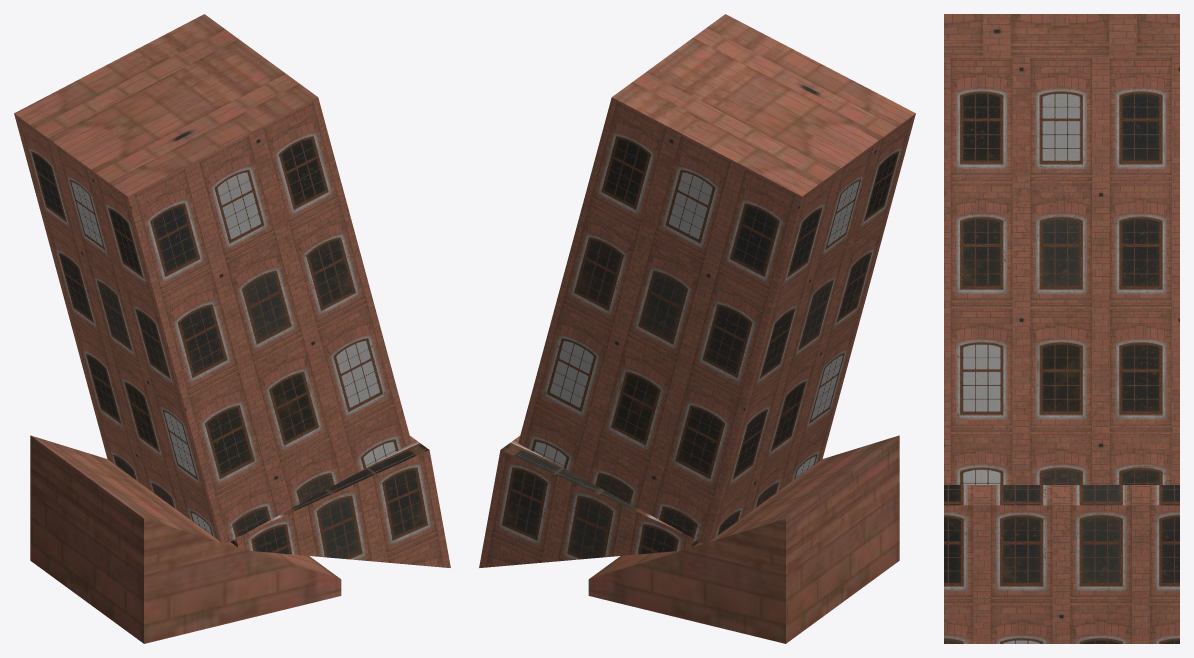
File: Building_Normal_Broken.fbx
3 renders of one model, left to right at view 1: azimuth 30°, elevation 25°; view 2: azimuth 150°, elevation 25°; view 3: azimuth 270°, elevation 25°, orthographic. The views are drawn at different scales.
Visible parts, largest first — view 1: Cube.046, Cube.042, Cube.043; view 2: Cube.046, Cube.042, Cube.043; view 3: Cube.046, Cube.043.
Part boxes in pixels (x1=…): Cube.046: x1=14, y1=14, x2=411, y2=545; Cube.042: x1=30, y1=435, x2=341, y2=643; Cube.043: x1=230, y1=436, x2=450, y2=567; Cube.046: x1=518, y1=14, x2=915, y2=543; Cube.042: x1=588, y1=435, x2=899, y2=643; Cube.043: x1=479, y1=436, x2=699, y2=567; Cube.046: x1=944, y1=14, x2=1179, y2=484; Cube.043: x1=944, y1=485, x2=1179, y2=643.
Size of the model in its own units: 1705 by 2542 by 1040.
1 material, 1 textured.
